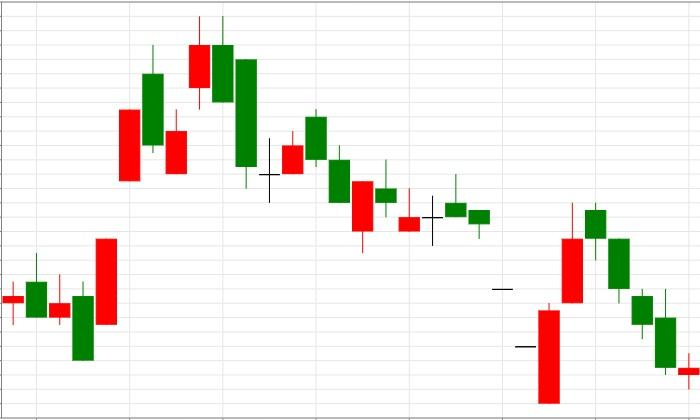three_black_crows_fall: (516, 202, 652, 404)
